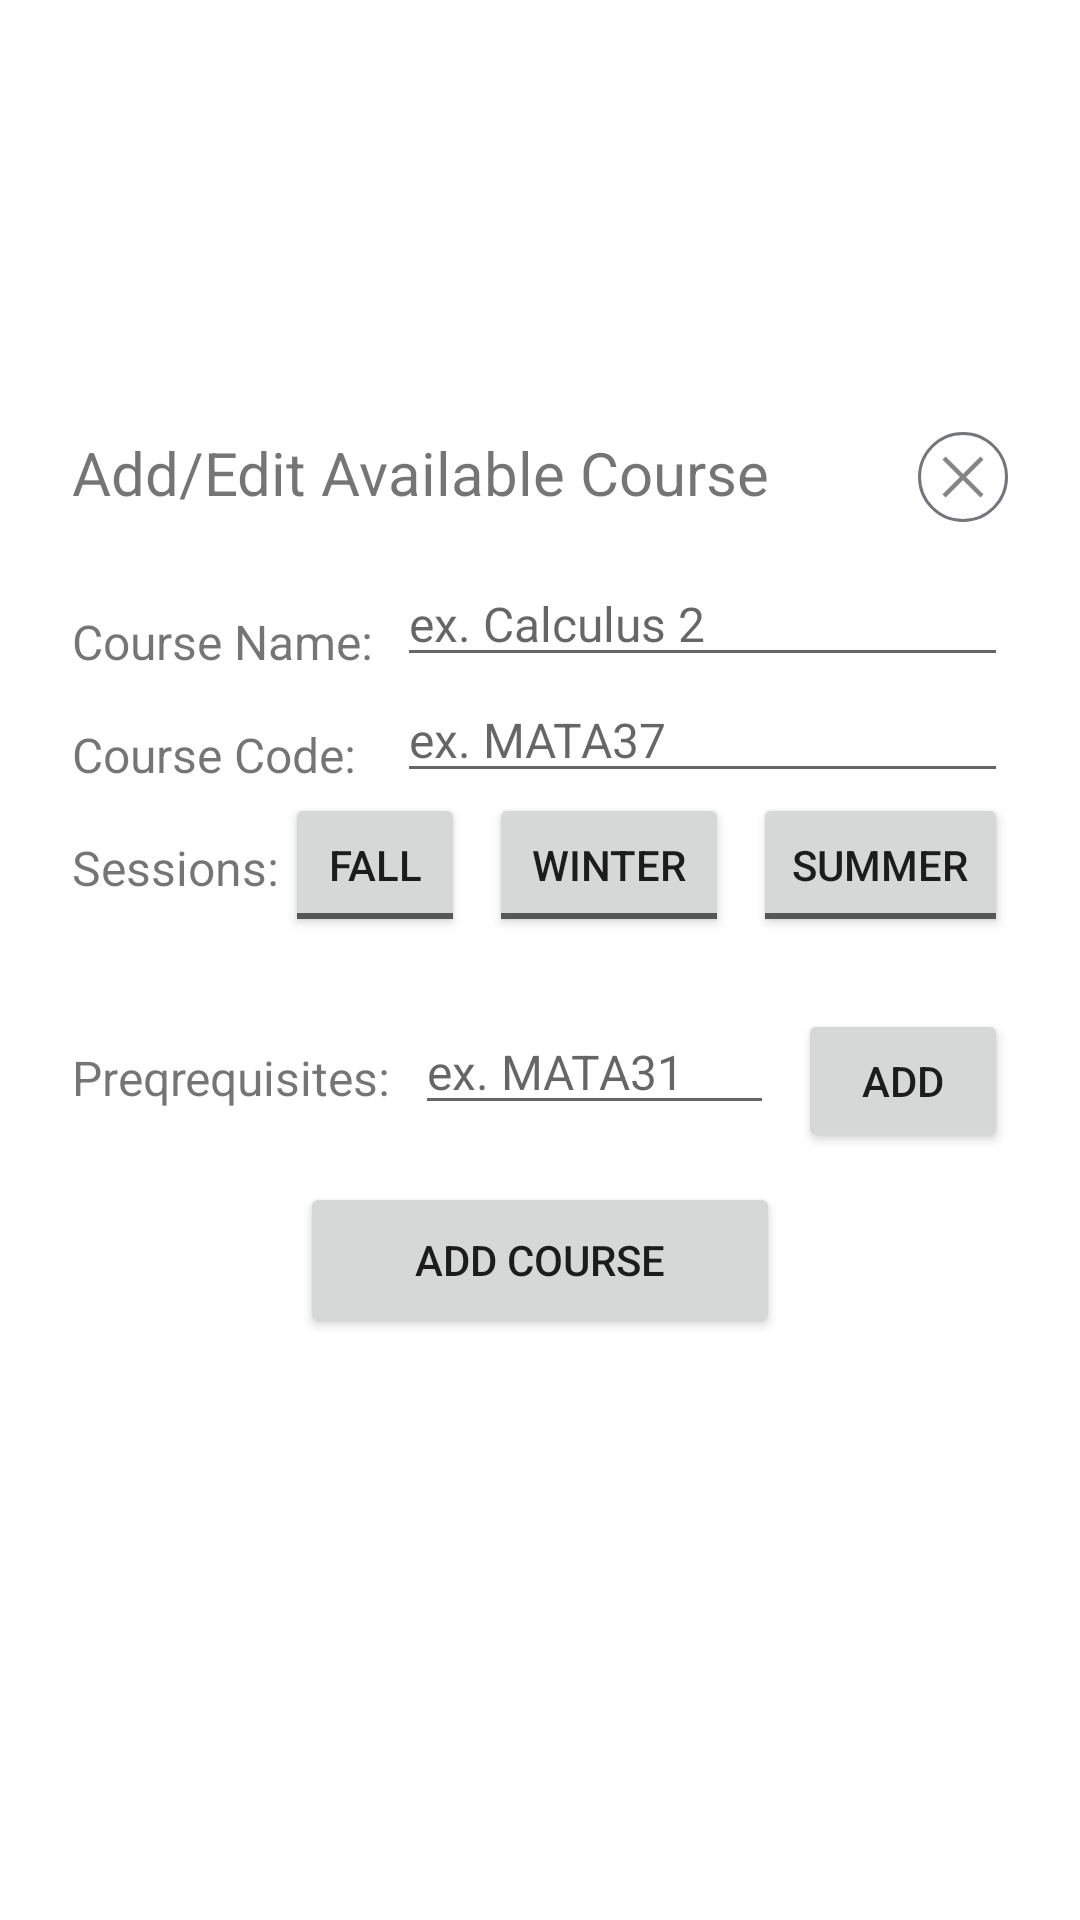

Icon bounding boxes for this 1080px×1920px phone screenshot, format {"left": x1, "top": y1, "right": x2, "bottom": y2}:
close: {"left": 918, "top": 432, "right": 1008, "bottom": 522}
